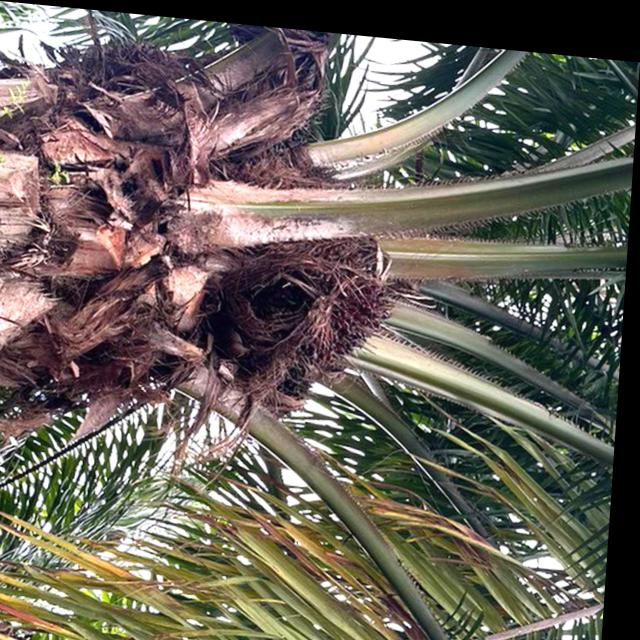ripe: (313, 229, 409, 371)
